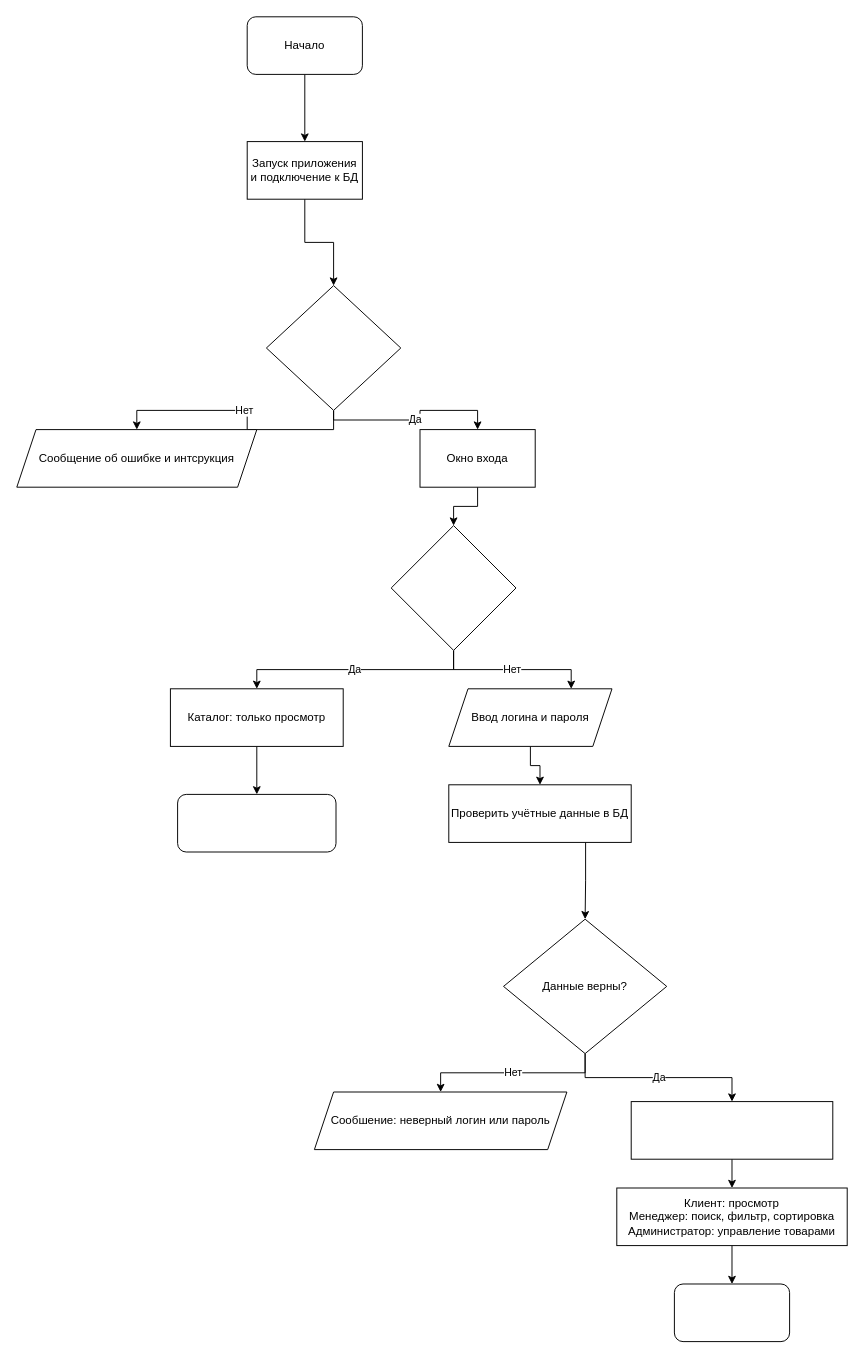
This 864x1358 diagram has some shape labels left out. Each missing label, with the box of its shape:
Вход гостем: (390, 525, 516, 650)
Выход - окно входа: (673, 1283, 790, 1342)
Конец гостевого сеанса: (177, 793, 336, 852)
Определить роль и открыть каталог: (630, 1101, 833, 1159)
Подключение доступно?: (265, 285, 401, 410)
